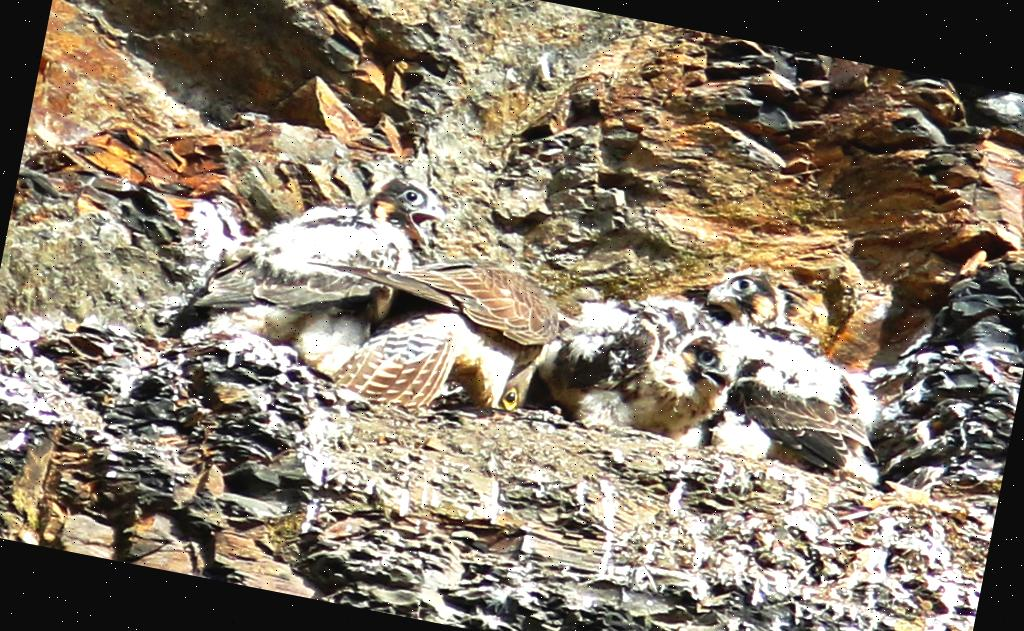Owl: (168, 137, 448, 398), (666, 250, 912, 485), (290, 225, 564, 423), (538, 272, 758, 450)
